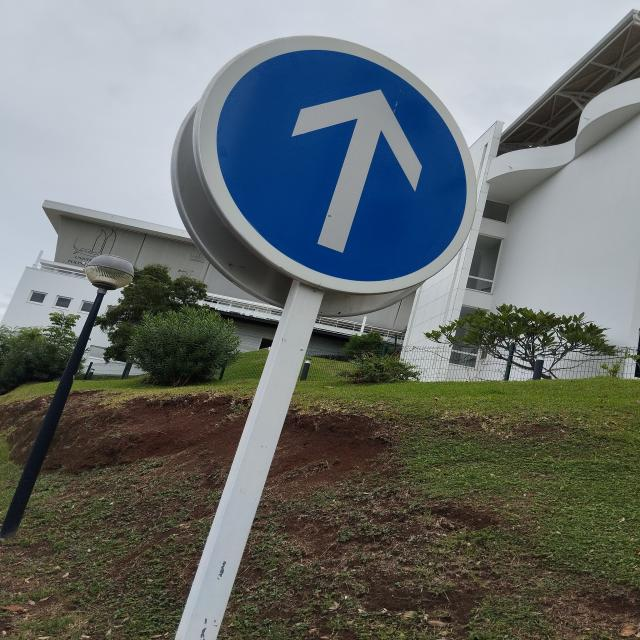Sens-Unique: (198, 28, 482, 292)
